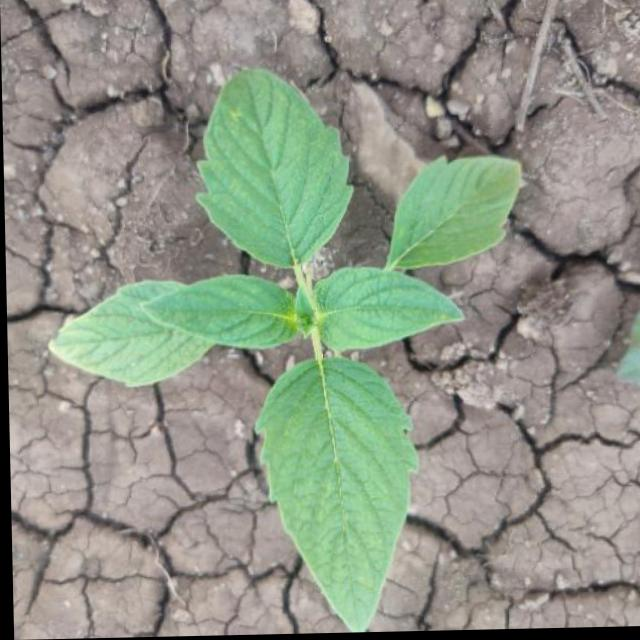crop: (41, 73, 532, 639)
